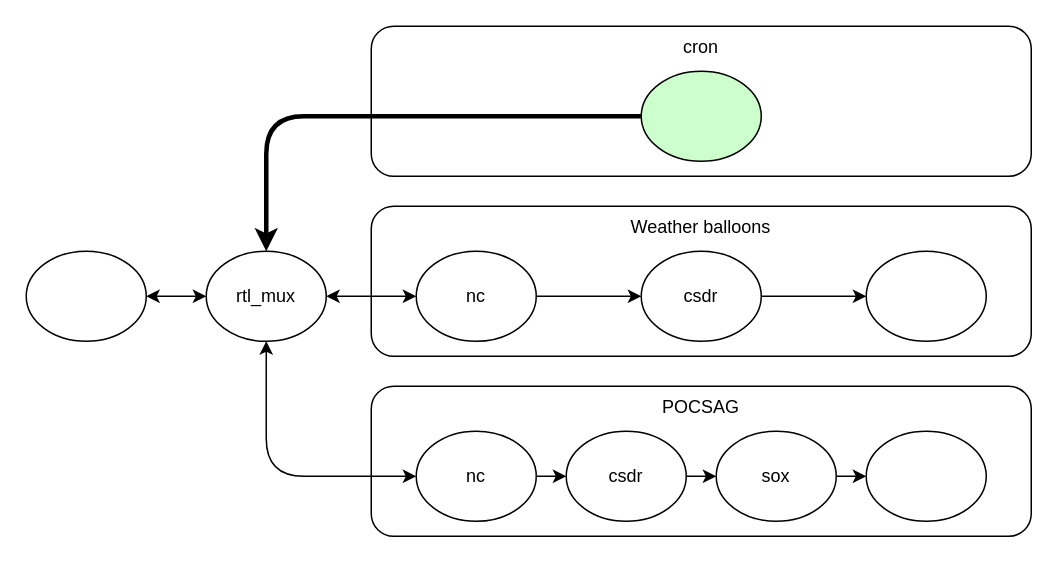
This 1058x563 diagram has some shape labels left out. Each missing label, with the centre of its shape:
"multimon-ng" goes at point 925,475.
"rtl_ctl" goes at point 700,115.
"rtl_tcp" goes at point 85,295.
"trappette" goes at point 925,295.
